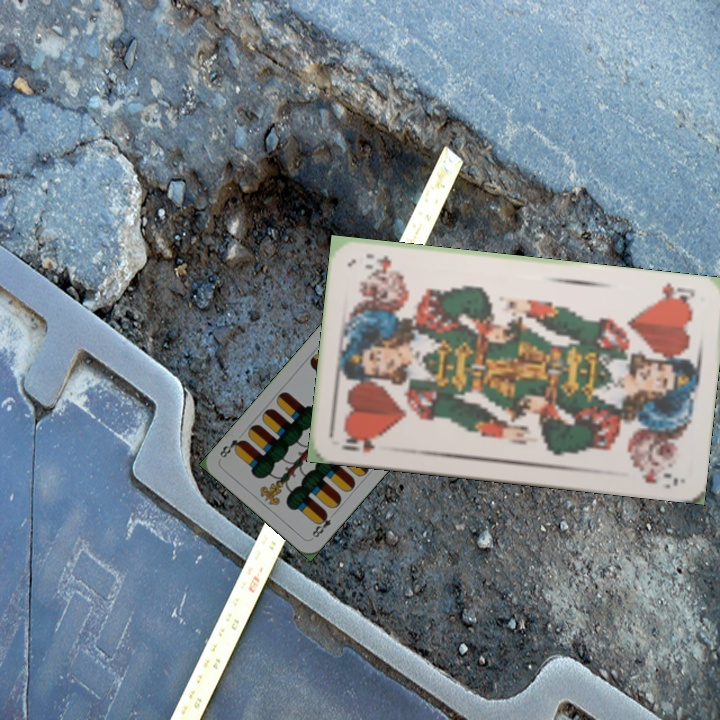E8: (307, 508, 338, 541)
HO: (653, 279, 698, 308), (338, 430, 381, 456)
